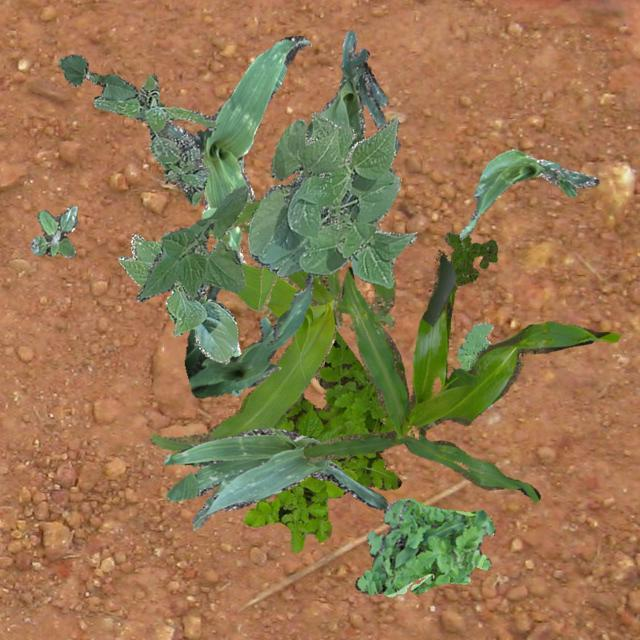crop: (302, 252, 620, 500), (148, 223, 394, 449), (166, 36, 310, 262), (247, 110, 416, 288), (206, 172, 394, 330), (163, 426, 387, 528), (184, 274, 312, 396), (118, 234, 236, 362), (136, 184, 250, 300), (458, 148, 598, 238), (306, 30, 400, 152), (57, 54, 136, 100), (230, 340, 240, 394)
weed: (242, 330, 400, 552), (92, 72, 216, 206), (354, 498, 494, 596), (444, 230, 496, 284), (28, 204, 76, 256), (456, 322, 492, 371)
